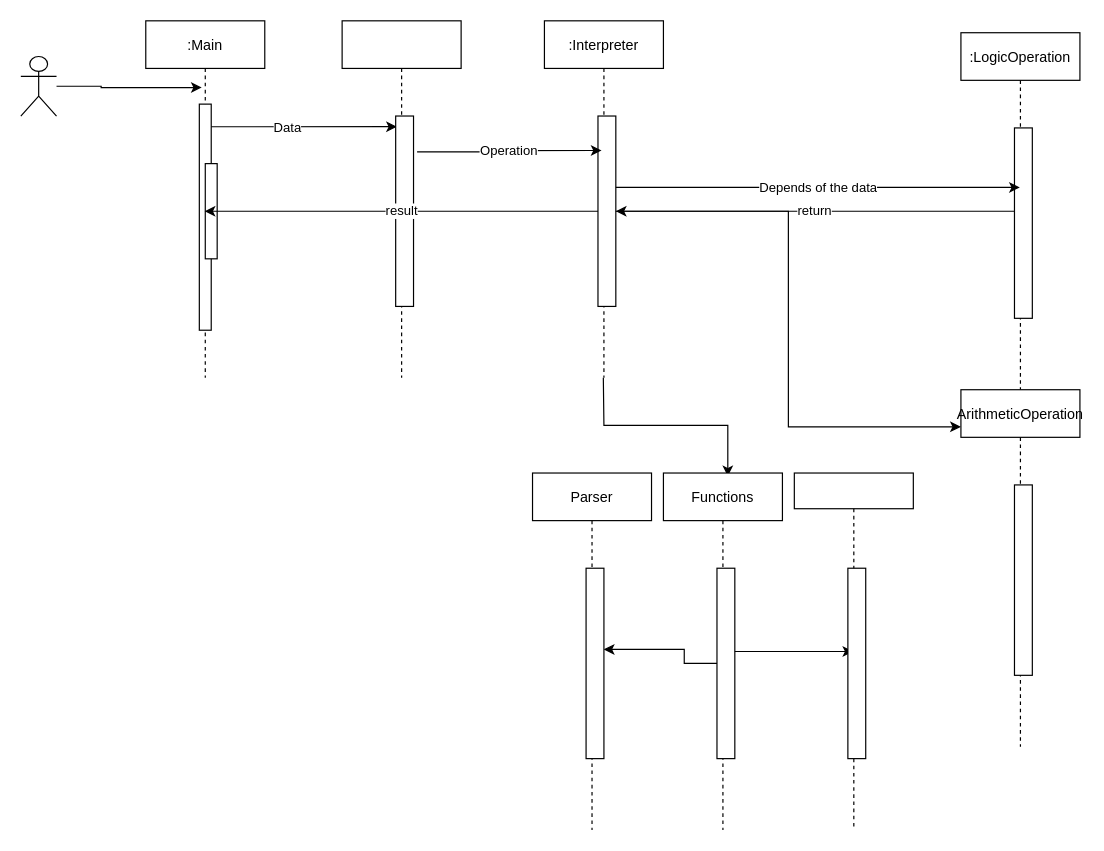
Some shapes in this 1104 by 851 pixel diagram are drawn without their labels. Here are the shapes that lost their labels. From the top down, the box of each, then its label:
(20, 55, 57, 116): User
(341, 20, 461, 378): :Line
(793, 472, 913, 830): Defun
